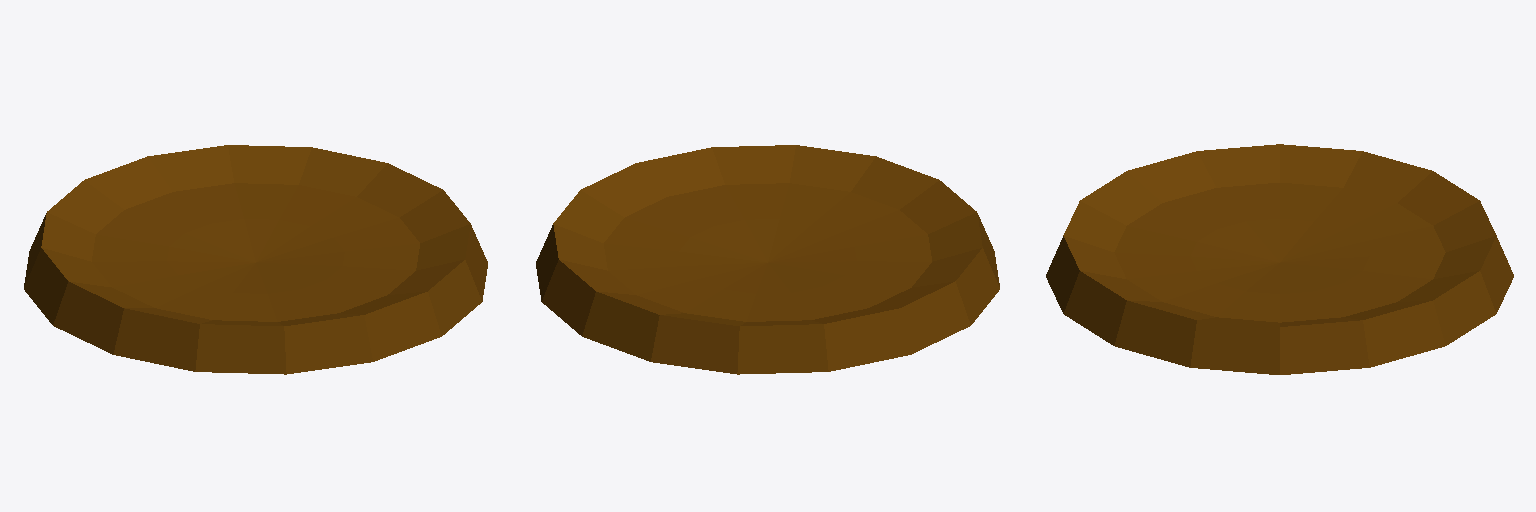
File: hole.obj
3 renders of one model, left to right at view 1: azimuth 30°, elevation 25°; view 2: azimuth 150°, elevation 25°; view 3: azimuth 270°, elevation 25°, orthographic.
Visible parts, largest first — view 1: sphere1_cut2; view 2: sphere1_cut2; view 3: sphere1_cut2.
Boxes of the visible parts, <box> form: sphere1_cut2: <box>24,145,487,374</box>; sphere1_cut2: <box>536,145,999,374</box>; sphere1_cut2: <box>1046,144,1513,374</box>.
Size of the model in its own units: 4 by 0.3827 by 4.